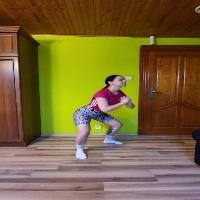squats: (69, 69, 139, 164)
